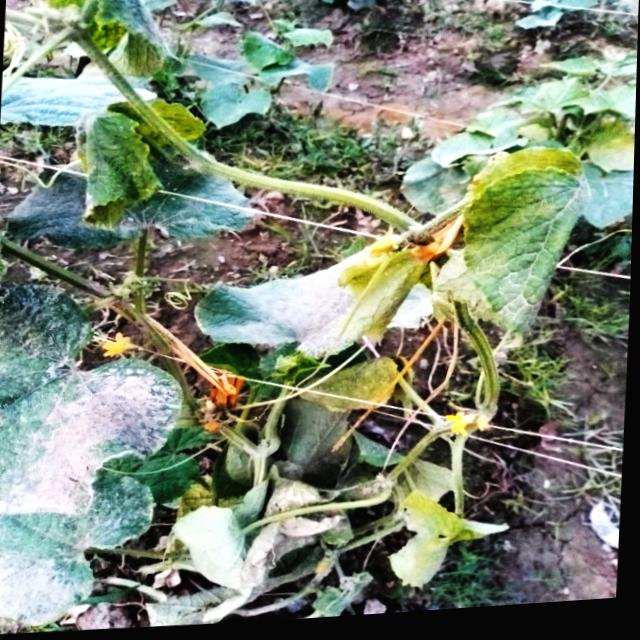Bacterial-Wilt: (432, 154, 590, 365), (68, 97, 207, 232)
